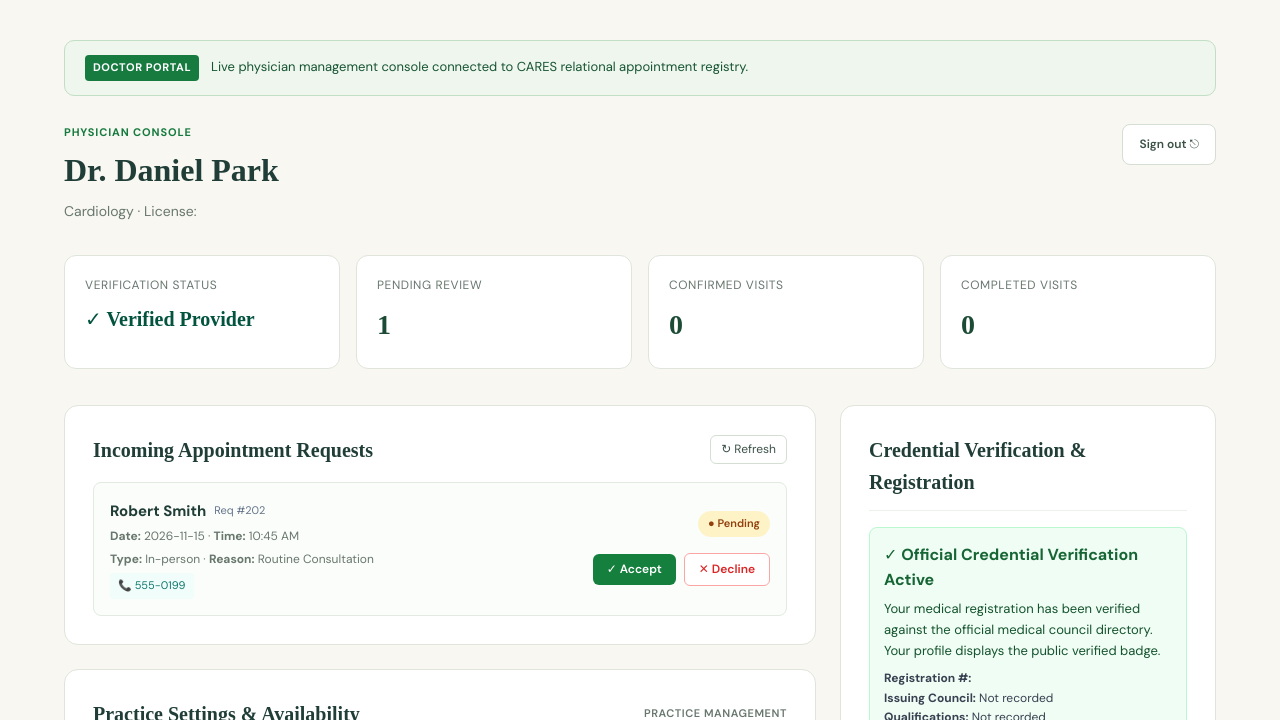
Milestone 5: Automated Frontend Appointment Workflow Component Tests › DoctorDashboard Lifecycle Transitions & Contact Info › opens decline dialog, supports entering reason, and submits decline status
Check: the heading "Robert Smith" is shown, box [110,499,206,523]
Note: Click Decline button
Click the button "✕ Decline".
click(727, 570)  # box [684,553,770,586]
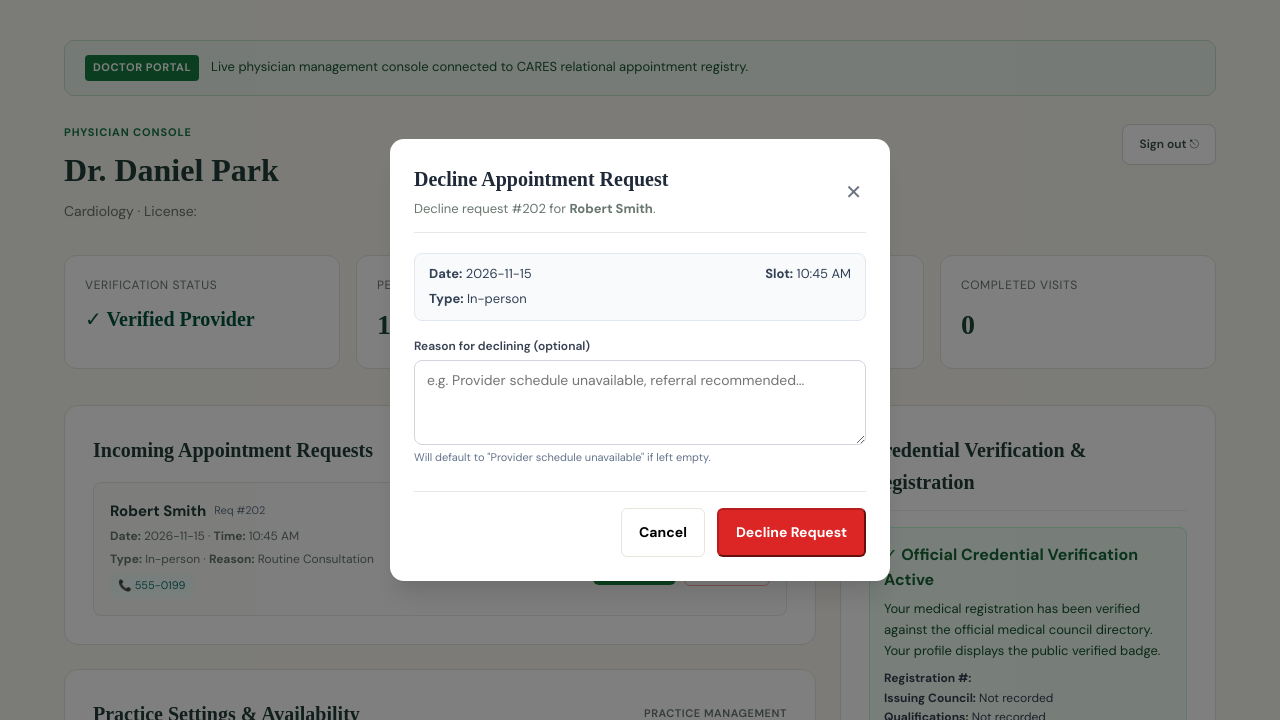
Check: the dialog is shown
Check: the heading "Decline Appointment Request" is shown, box [414,163,668,195]
Note: Enter specific decline reason
Type "Physician unavailable due to scheduled surgery." into the text box labelled "Reason for declining (optional)".
click(640, 402); type("Physician unavailable due to scheduled surgery.")  # box [414,360,866,445]
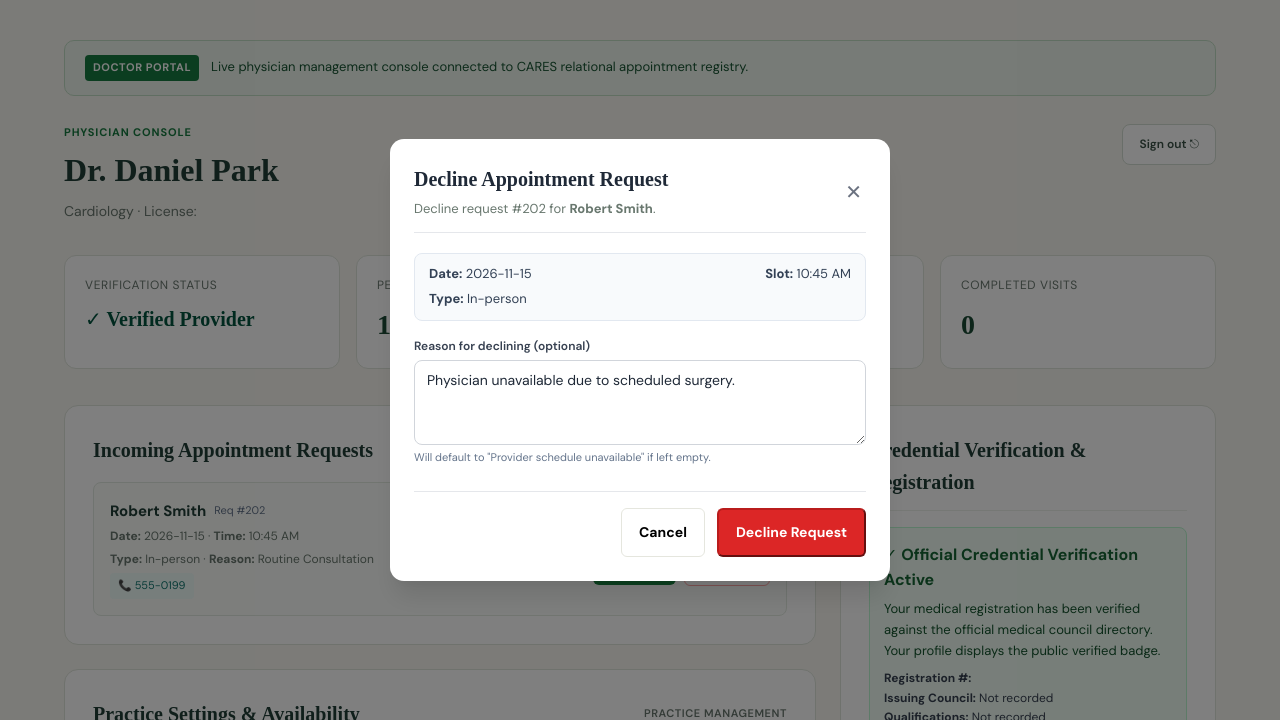
Click the button "Decline Request".
click(791, 532)  # box [717,508,866,557]
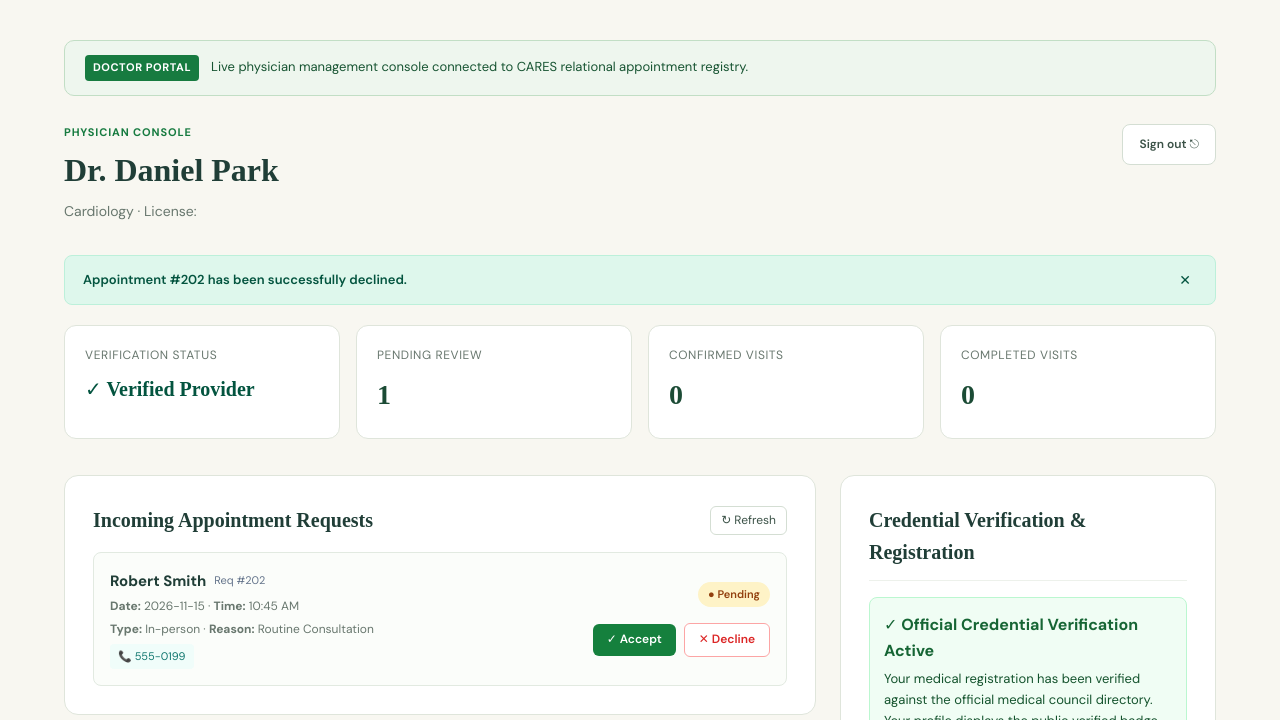
Check: the dialog is gone
